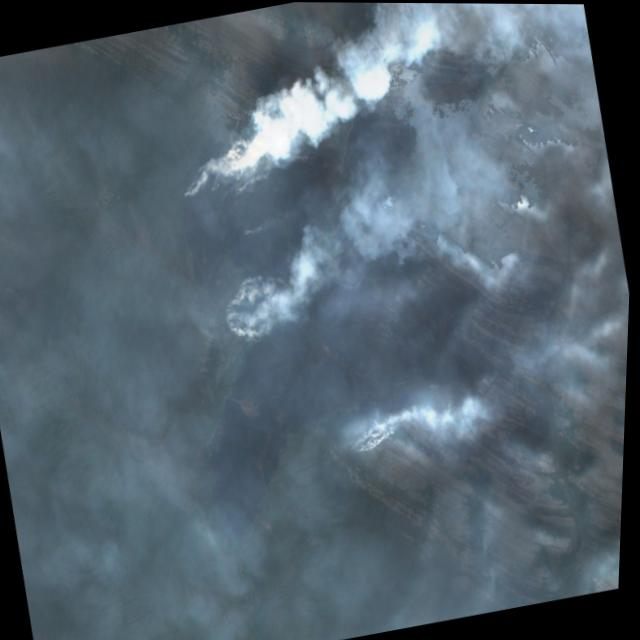fire: (163, 103, 326, 375), (337, 412, 405, 475)
